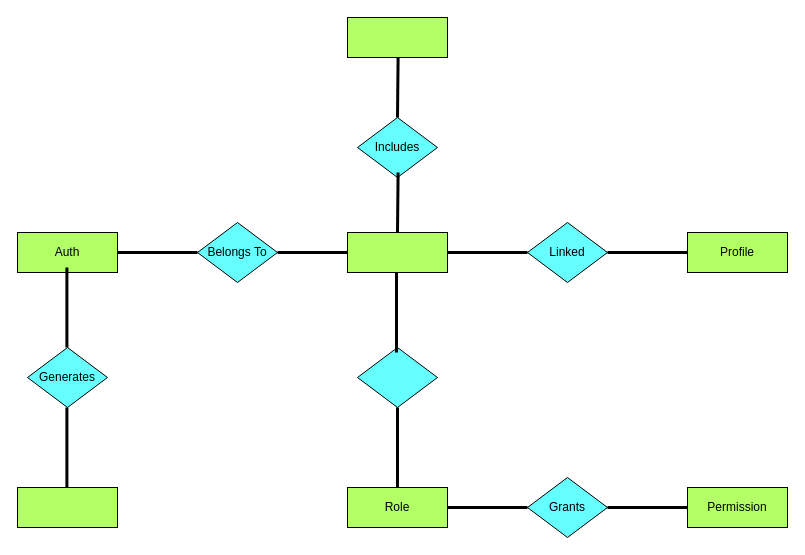
The diagram is 805 pixels wide and 555 high, and some of its shapes have lost their labels. The shapes that lost their labels are listed below. From the top down, each one's box as (x1, y1, x2, y2) in pixels, then its label:
(346, 16, 448, 58): Contact
(346, 232, 448, 272): User
(356, 346, 438, 408): Assigned
(16, 486, 118, 528): Session
